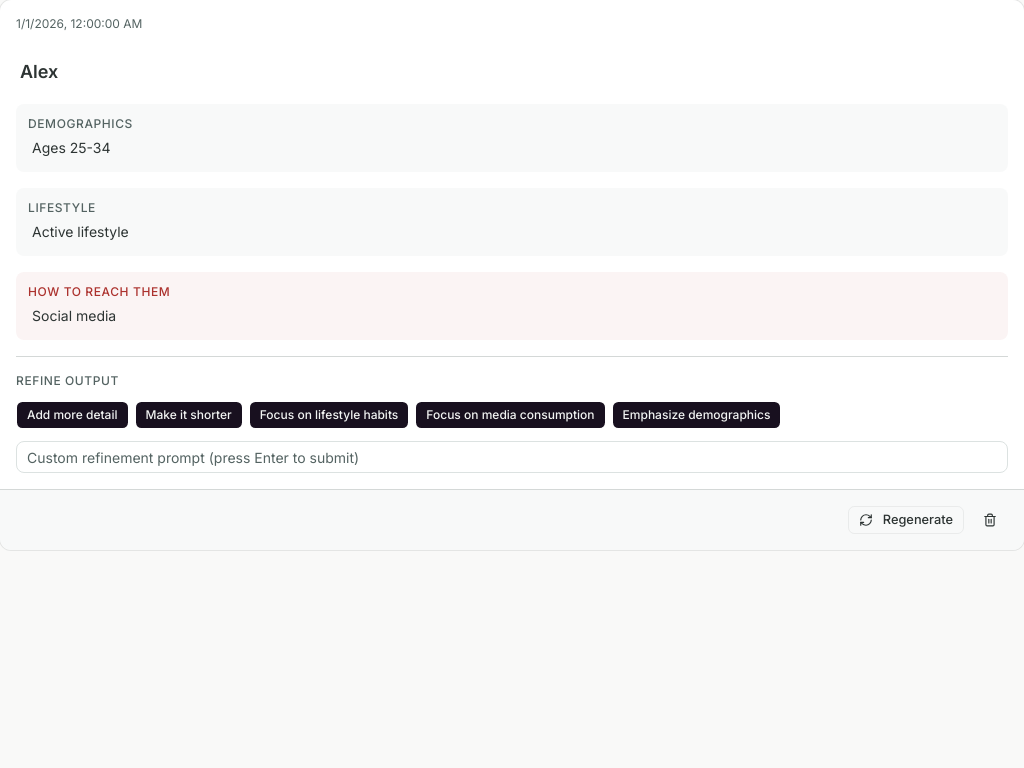
Test case: CreativeOutputEditCard › shows delete button and confirmation flow
Click the button named "delete": {"x": 990, "y": 520} [972,506,1008,534]
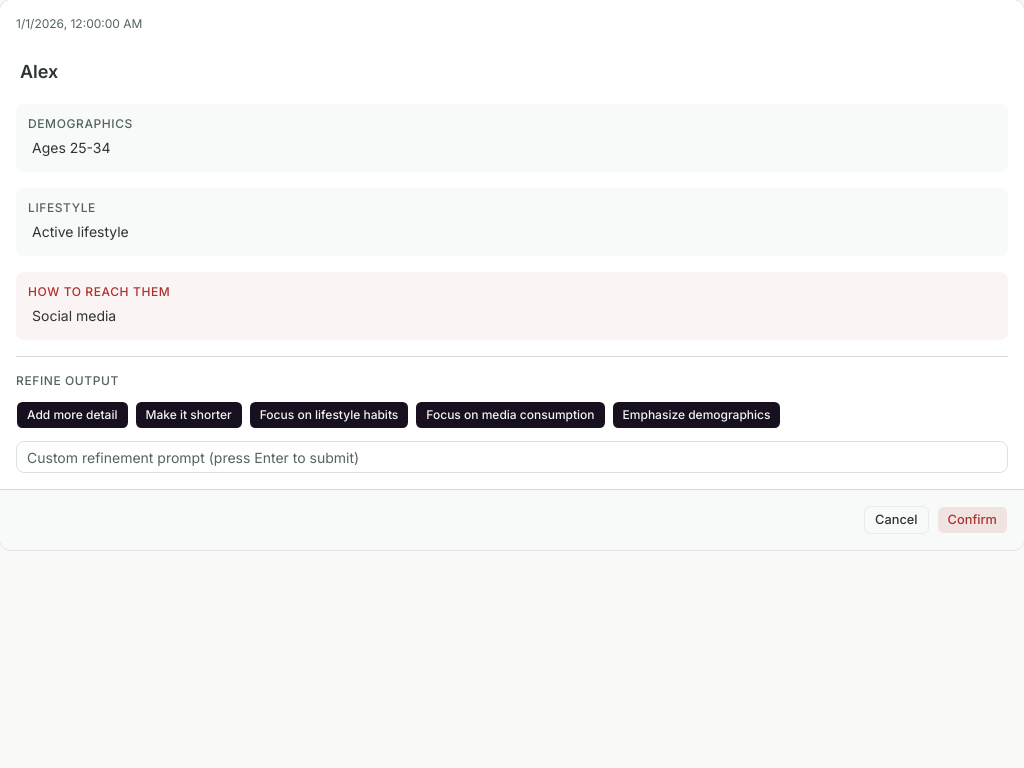
Expected: the button "Confirm" is shown, [937,506,1008,534]
